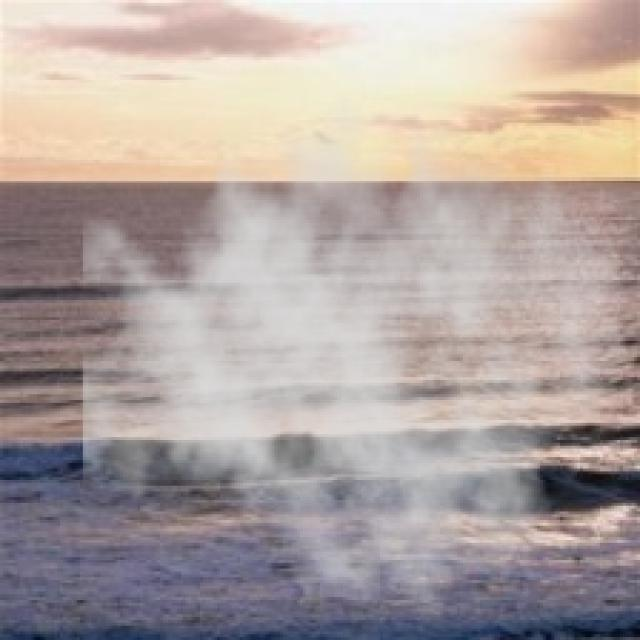smoke: (83, 65, 631, 626)
